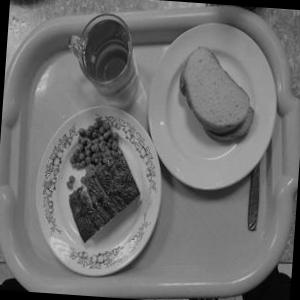bread: (172, 42, 266, 154)
casserole: (51, 115, 151, 252)
tea: (66, 12, 150, 102)
